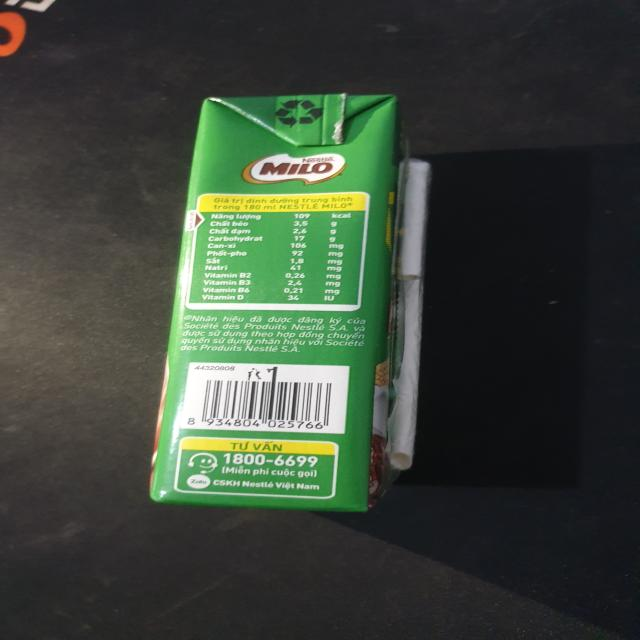Milo: (148, 96, 444, 514)
